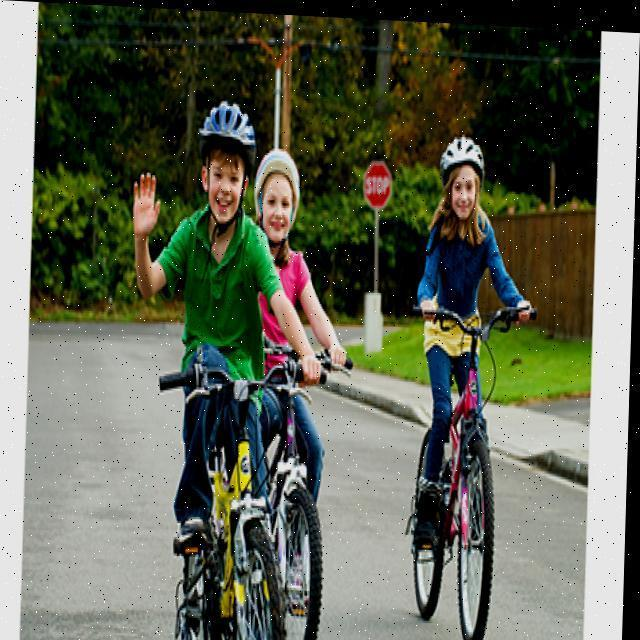Helmet: (184, 97, 261, 225), (435, 124, 490, 225), (254, 142, 304, 245)
